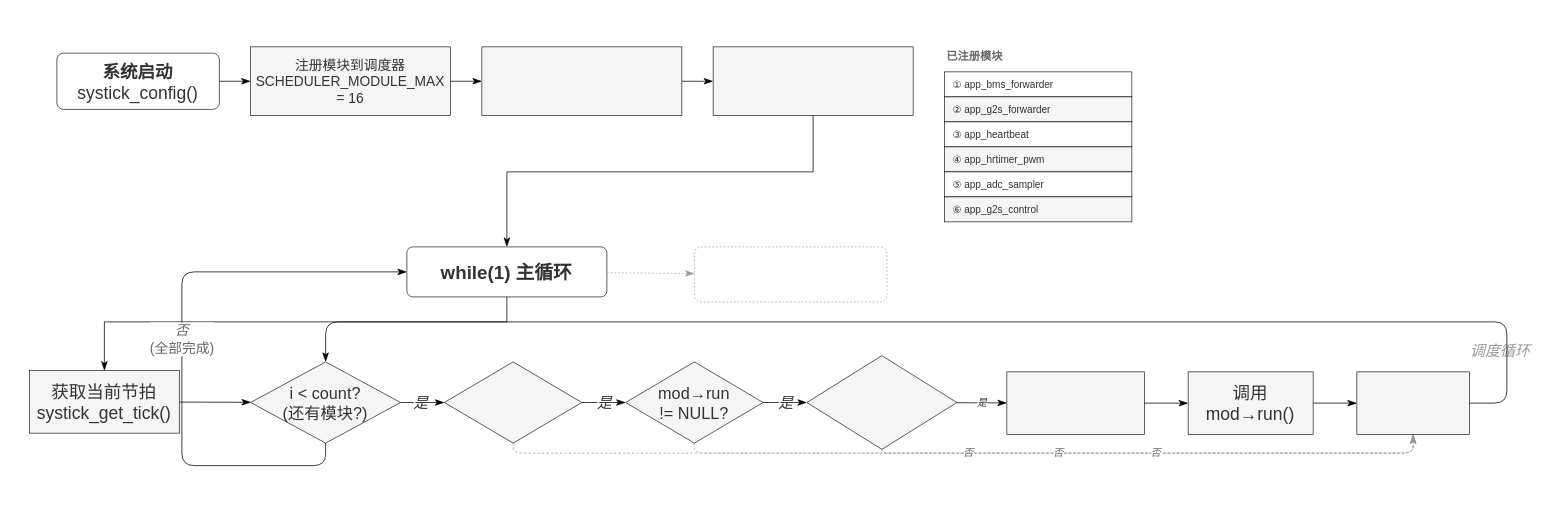
Some shapes in this 1558 by 508 pixel diagram are drawn without their labels. Each missing label, with the centre of its shape:
"i++ (下一模块)" goes at point (1412, 402).
"scheduler_init_all() mod→init() → INITED/ERROR" goes at point (581, 80).
"scheduler_start_all() mod→start() → RUNNING" goes at point (812, 80).
"周期到达? period==0 或 now−last ≥ period" goes at point (881, 402).
"更新 last_run = now" goes at point (1075, 402).
"状态 == RUNNING?" goes at point (513, 402).
"系统停止 scheduler_stop_all()" goes at point (790, 274).
